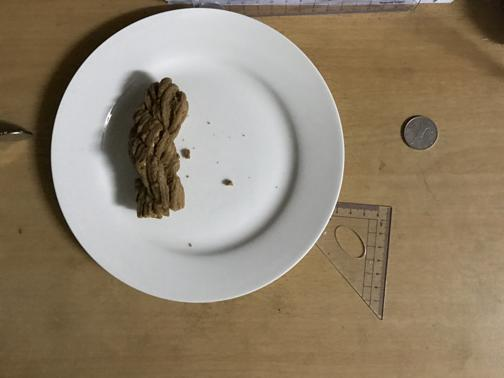coin: (400, 113, 438, 151)
fired_dough_twist: (132, 78, 188, 218)
